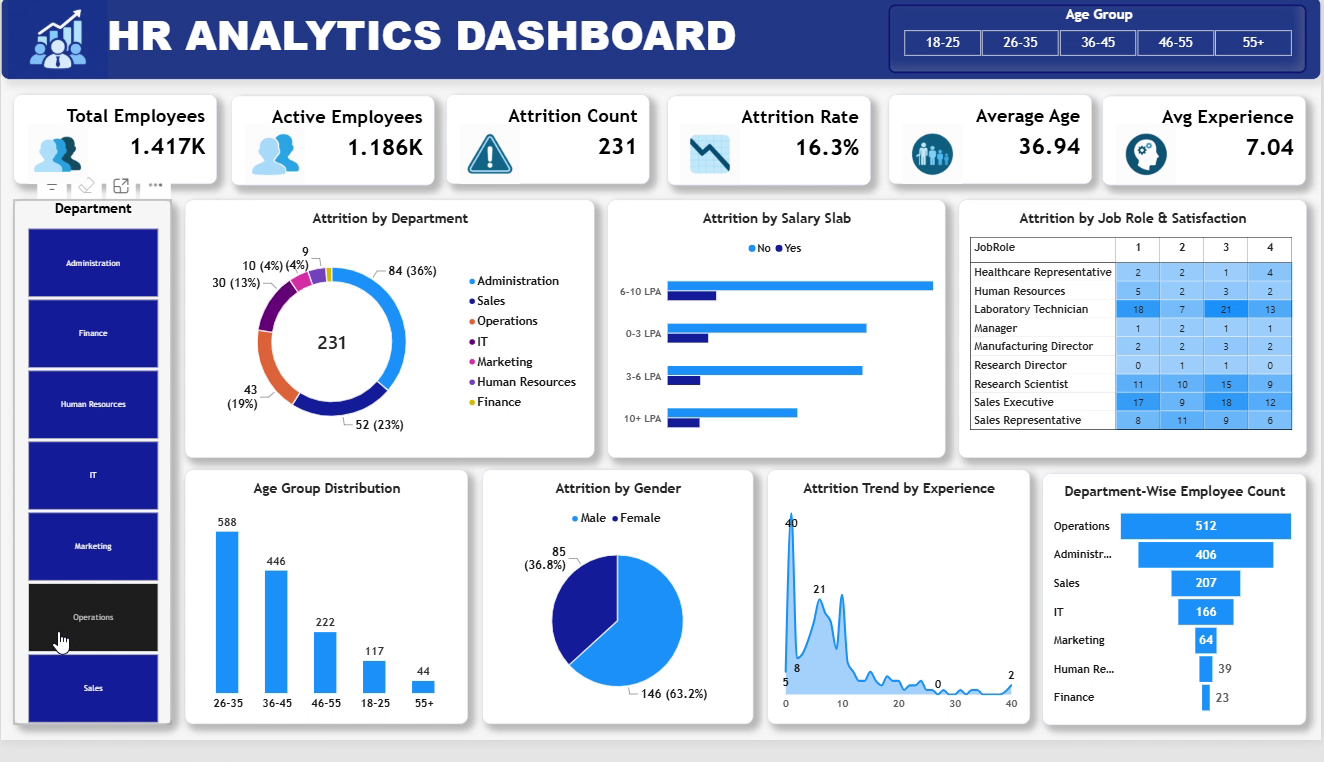

What the dashboard file says about the page in this screenshot:
{"tool":"powerbi","page":{"name":"Page 1","canvas":[1920,1080],"ordinal":0},"visuals":[{"type":"textbox","box":[0,0,1920,120],"z":0},{"type":"cardVisual","title":"Total Employees","fields":{"Data":["CountNonNull(HR_Analytics-4.EmpID)"]},"box":[18,142,296,130],"z":1000},{"type":"cardVisual","title":"Active Employees","fields":{"Data":["CountNonNull(HR_Analytics-4.EmpID)"]},"box":[334,144,296,130],"z":2000},{"type":"cardVisual","title":"Attrition Count","fields":{"Data":["Sum(HR_Analytics-4.AttritionCount)"]},"box":[648,142,296,130],"z":3000},{"type":"cardVisual","title":"Attrition Rate","fields":{"Data":["_measures.Attrition Rate %"]},"box":[968.4,143.6,296,130],"z":4000},{"type":"cardVisual","title":"Average Age","fields":{"Data":["Avg(HR_Analytics-4.Age)"]},"box":[1290,142,296,130],"z":5000},{"type":"cardVisual","title":"Avg Experience","fields":{"Data":["Avg(HR_Analytics-4.YearsatCompany)"]},"box":[1602,144,296,130],"z":6000},{"type":"donutChart","title":"Attrition by Department","fields":{"Category":["HR_Analytics-4.Department"],"Y":["Sum(HR_Analytics-4.AttritionCount)"]},"box":[268,294,596,376],"z":7000},{"type":"clusteredBarChart","title":"Attrition by Salary Slab","fields":{"Category":["HR_Analytics-4.SalarySlab"],"Series":["HR_Analytics-4.Attrition"],"Y":["CountNonNull(HR_Analytics-4.EmpID)"]},"box":[882,294,492,376],"z":8000},{"type":"pivotTable","title":"Attrition by Job Role & Satisfaction","fields":{"Columns":["HR_Analytics-4.JobSatisfaction"],"Rows":["HR_Analytics-4.JobRole"],"Values":["Sum(HR_Analytics-4.AttritionCount)"]},"box":[1392,294,506,376],"z":9000},{"type":"columnChart","title":"Age Group Distribution","fields":{"Category":["HR_Analytics-4.AgeGroup"],"Y":["Sum(HR_Analytics-4.EmployeeCount)"]},"box":[268,688,412,370],"z":10000},{"type":"pieChart","title":"Attrition by Gender","fields":{"Category":["HR_Analytics-4.Gender"],"Y":["Sum(HR_Analytics-4.AttritionCount)"]},"box":[700,688,394,370],"z":11000},{"type":"areaChart","title":"Attrition Trend by Experience","fields":{"Category":["HR_Analytics-4.TotalExperience(Years)"],"Y2":["Sum(HR_Analytics-4.AttritionCount)"]},"box":[1114,688,382,370],"z":12000},{"type":"funnel","title":"Department-Wise Employee Count ","fields":{"Category":["HR_Analytics-4.Department"],"Y":["CountNonNull(HR_Analytics-4.EmpID)"]},"box":[1514,692,384,366],"z":13000},{"type":"slicer","title":"Department","fields":{"Values":["HR_Analytics-4.Department"]},"box":[18,294,230,764],"z":14000},{"type":"slicer","title":"Age Group","fields":{"Values":["HR_Analytics-4.AgeGroup"]},"box":[1290.5,11.4,607.8,100],"z":15000},{"type":"image","box":[18,186,128,86],"z":16000},{"type":"image","box":[334,186,128,86],"z":17000},{"type":"image","box":[648,186,128,86],"z":18000},{"type":"image","box":[968,186,128,86],"z":19000},{"type":"image","box":[1290,186,128,86],"z":20000},{"type":"image","box":[1602,186,128,86],"z":21000},{"type":"image","box":[0,2,166,117],"z":22000}]}

Visuals, with their boxes in screenshot pixels (x1, y1, x2, y2), scaled from the page's 1920x1080 canvas onto the 1324x762 screenshot:
textbox: (0, 0, 1323, 85)
"Total Employees" cardVisual: (12, 100, 217, 192)
"Active Employees" cardVisual: (230, 102, 434, 193)
"Attrition Count" cardVisual: (447, 100, 651, 192)
"Attrition Rate" cardVisual: (668, 101, 872, 193)
"Average Age" cardVisual: (890, 100, 1094, 192)
"Avg Experience" cardVisual: (1105, 102, 1309, 193)
"Attrition by Department" donutChart: (185, 207, 596, 473)
"Attrition by Salary Slab" clusteredBarChart: (608, 207, 947, 473)
"Attrition by Job Role & Satisfaction" pivotTable: (960, 207, 1309, 473)
"Age Group Distribution" columnChart: (185, 485, 469, 746)
"Attrition by Gender" pieChart: (483, 485, 754, 746)
"Attrition Trend by Experience" areaChart: (768, 485, 1032, 746)
"Department-Wise Employee Count " funnel: (1044, 488, 1309, 746)
"Department" slicer: (12, 207, 171, 746)
"Age Group" slicer: (890, 8, 1309, 79)
image: (12, 131, 101, 192)
image: (230, 131, 319, 192)
image: (447, 131, 535, 192)
image: (668, 131, 756, 192)
image: (890, 131, 978, 192)
image: (1105, 131, 1193, 192)
image: (0, 1, 114, 84)
